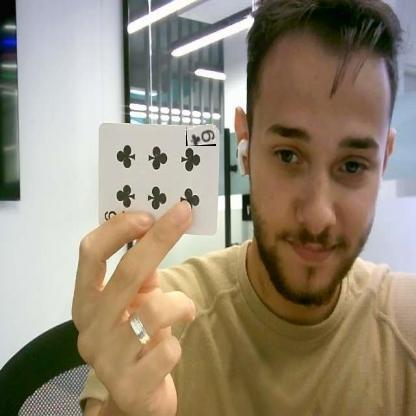6C: (186, 125, 216, 146)
